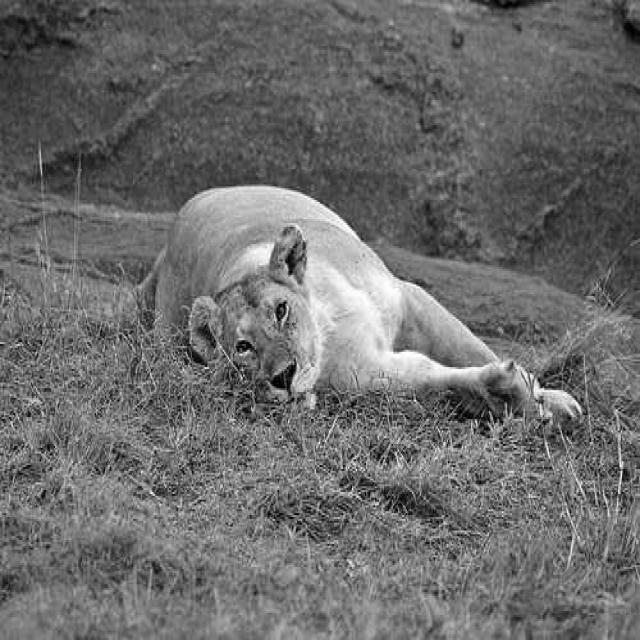Lion: (142, 103, 478, 457)
